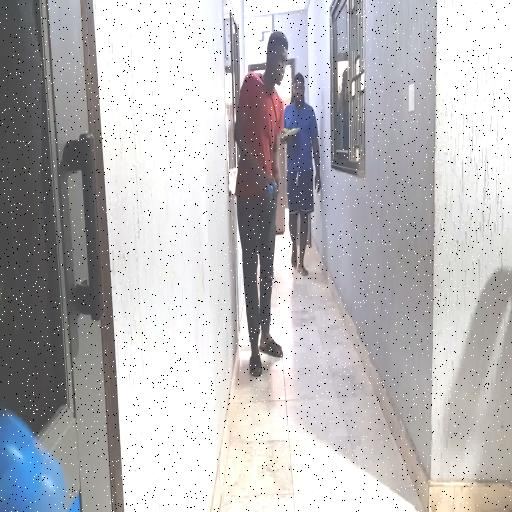plastic-ball: (1, 406, 69, 512)
